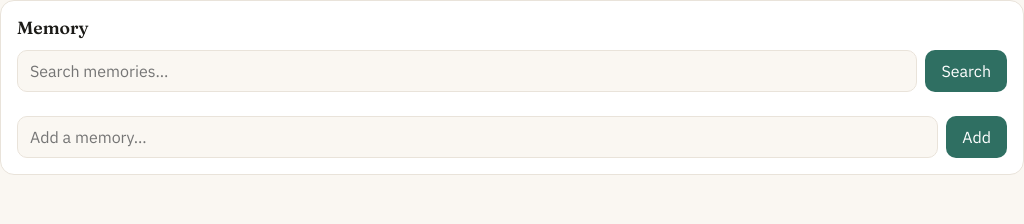
Test: shows an error when search fails
In the field labelled "Search": (467, 71) [17,50,917,92], type "x"
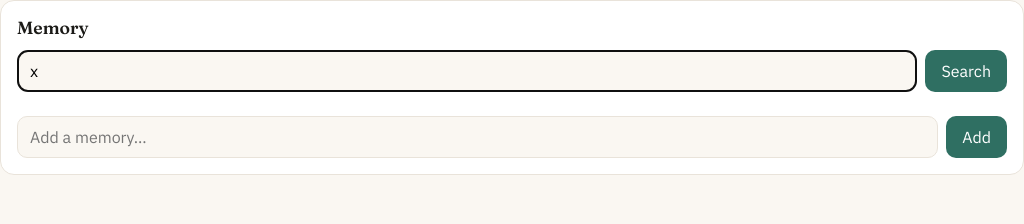
Click the button "Search": (966, 71) [925,50,1007,92]
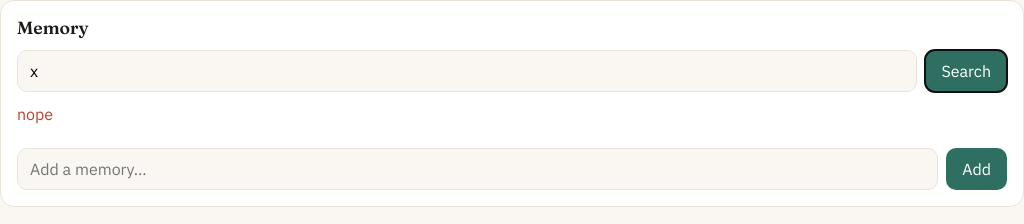
Now the message reads "nope", box [17,104,53,124]
